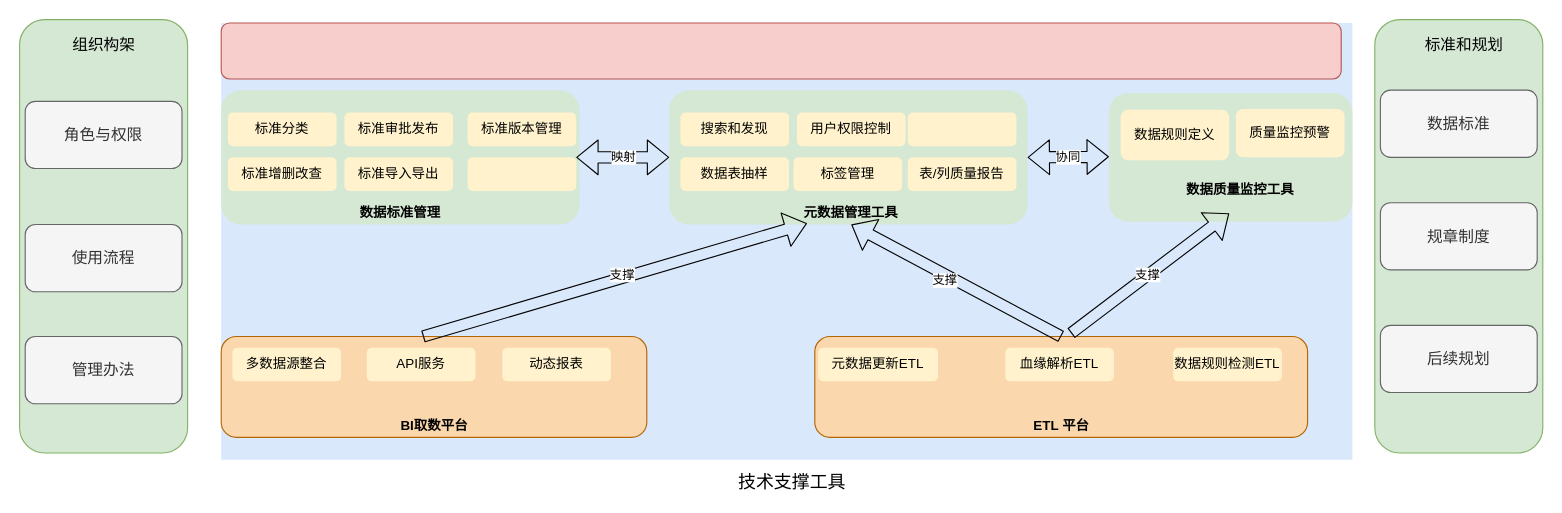
This 1562x513 diagram has some shape labels left out. Each missing label, with the centre of its shape:
SSO 用户登录门户: the point at 780,50
数据沿袭: the point at 961,129
标准落地评估: the point at 521,173
